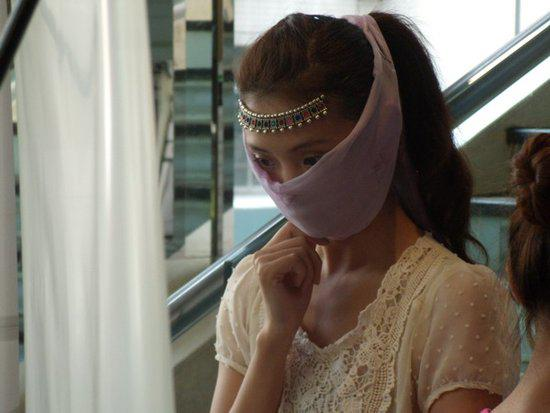OK: (255, 125, 372, 242)
